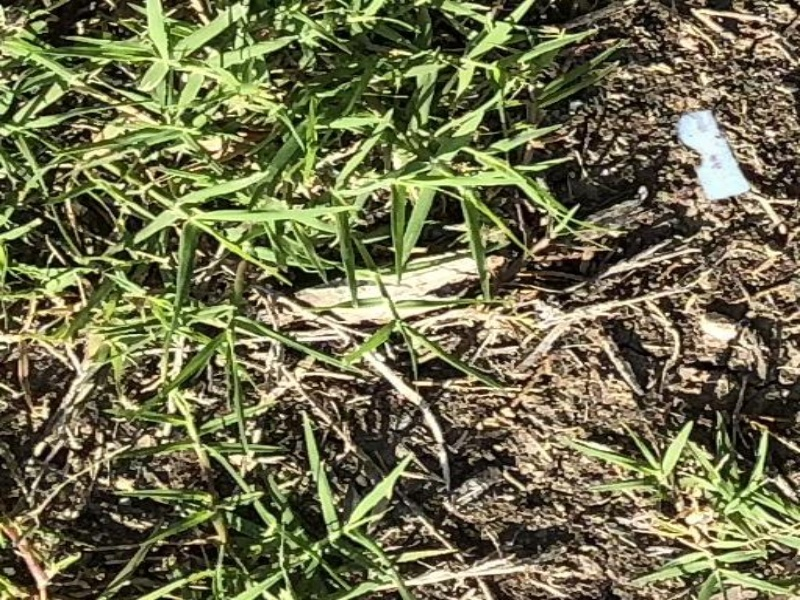cig: (672, 108, 757, 203)
